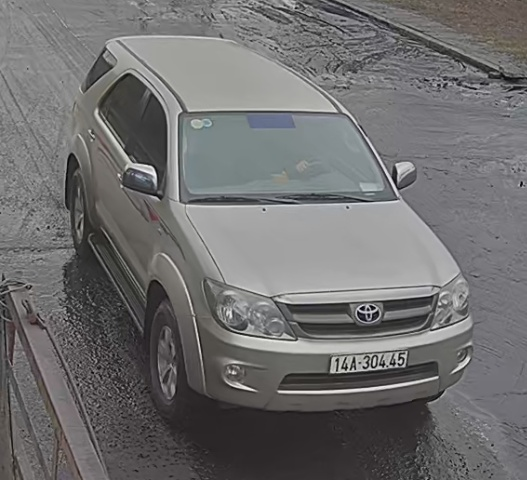vehicle plate: (320, 347, 410, 373)
